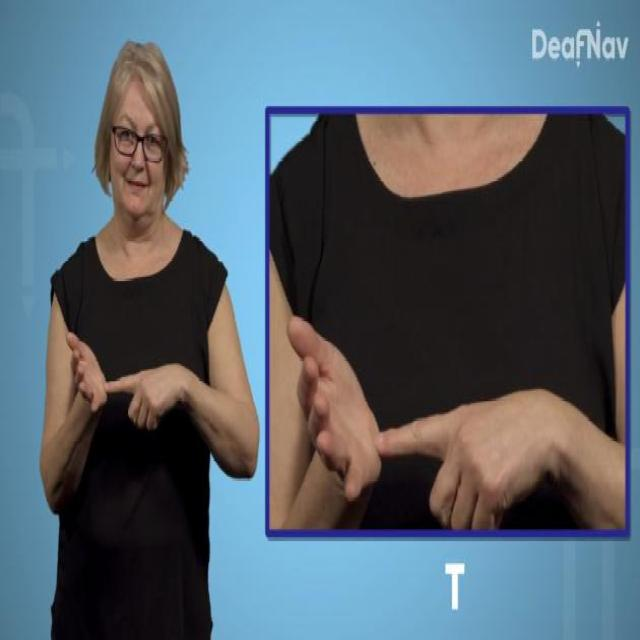T: (285, 312, 519, 530), (66, 326, 168, 433)
